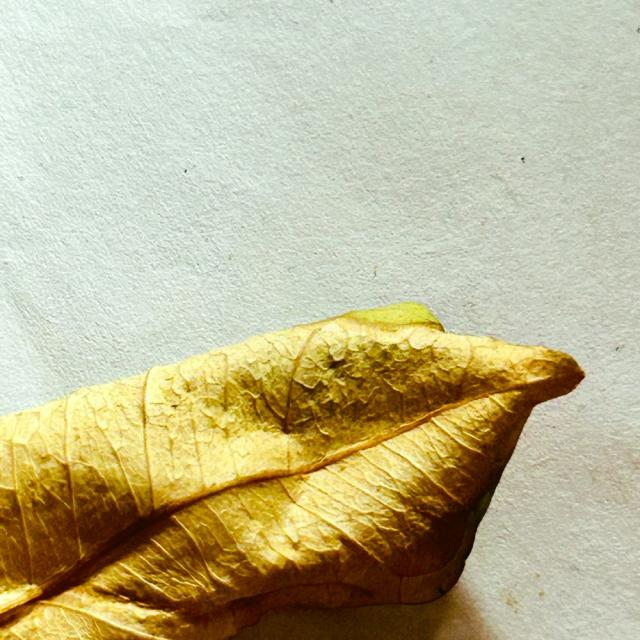DryLeaf_Lemon: (0, 303, 584, 639)
